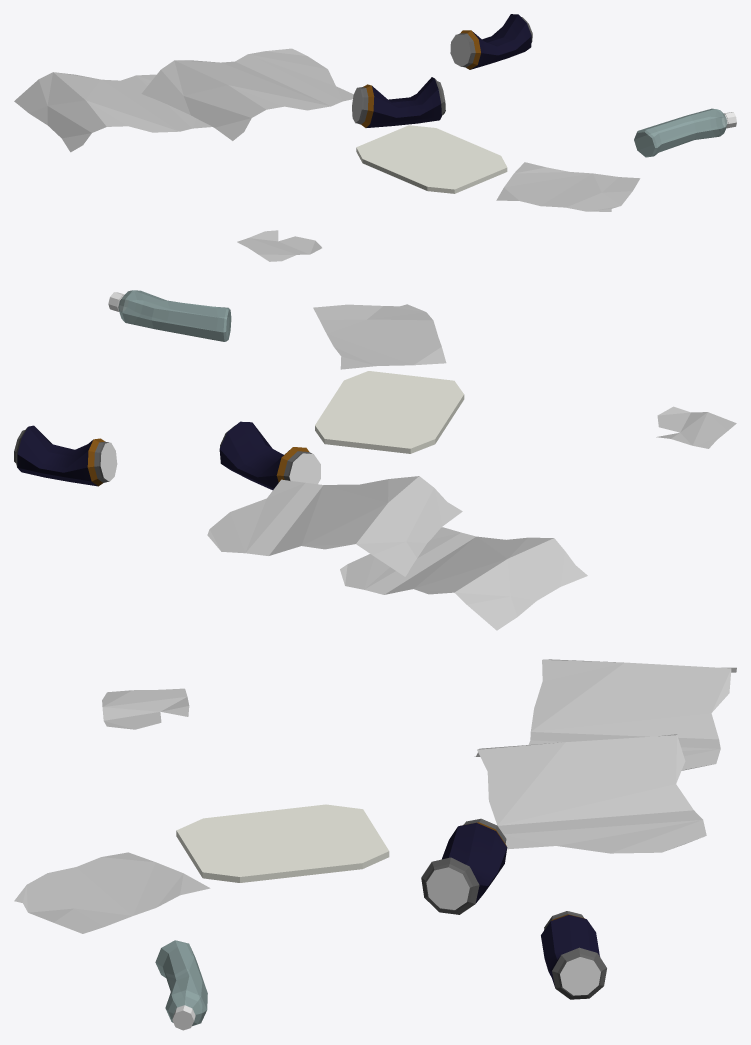
Rendered from WarehouseTrash2.glb.
3 views of the same model, one above another, from view 1: azimuth 30°, elevation 25°; view 2: azimuth 150°, elevation 25°; view 3: azimuth 270°, elevation 25° (orthographic). The views are drawn at different scales.
Visible parts, largest first — view 1: SM_Paper_05.002, SM_Paper_05.003, HexPaper.003, SM_Paper_04.003, Soda.003, Soda.004, SM_Bottle_A_02.001, SM_Paper_03.001; view 2: SM_Paper_05.002, SM_Paper_05.003, HexPaper.003, SM_Paper_04.003, Soda.003, Soda.004, SM_Bottle_A_02.001, SM_Paper_03.001; view 3: SM_Paper_05.002, SM_Paper_05.003, HexPaper.003, SM_Paper_04.003, Soda.003, Soda.004, SM_Bottle_A_02.001, SM_Paper_03.001.
Boxes of the visible parts, x1,y1,x2,y2 form: SM_Paper_05.002: (141,48,353,140); SM_Paper_05.003: (14,72,211,152); HexPaper.003: (356,125,507,193); SM_Paper_04.003: (496,162,640,211); Soda.003: (352,77,445,127); Soda.004: (450,14,532,69); SM_Bottle_A_02.001: (634,108,736,157); SM_Paper_03.001: (237,230,321,261); SM_Paper_05.002: (207,476,462,576); SM_Paper_05.003: (340,527,587,630); HexPaper.003: (315,371,464,453); SM_Paper_04.003: (313,304,446,369); Soda.003: (219,421,320,490); Soda.004: (14,425,117,486); SM_Bottle_A_02.001: (108,290,231,341); SM_Paper_03.001: (656,406,736,448); SM_Paper_05.002: (474,734,706,853); SM_Paper_05.003: (528,659,736,770); HexPaper.003: (176,804,389,882); SM_Paper_04.003: (14,852,210,933); Soda.003: (421,818,507,914); Soda.004: (541,911,606,999); SM_Bottle_A_02.001: (155,940,207,1030); SM_Paper_03.001: (102,688,189,729).
Bounding box in the file's own units: 0.6699 × 0.0523 × 0.573.
